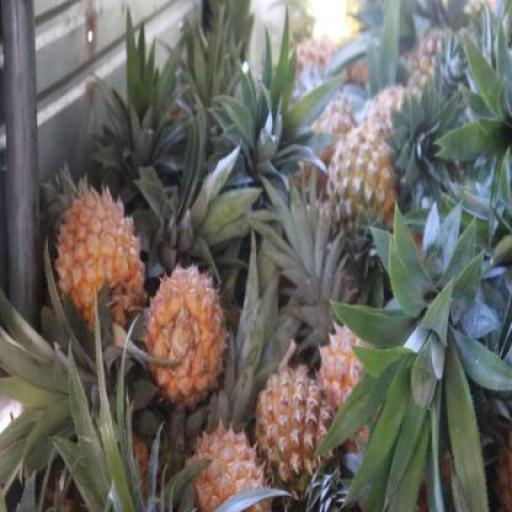Pineapple - v8 v1: (54, 188, 145, 334), (254, 357, 333, 505), (146, 264, 224, 398), (183, 411, 274, 512)
